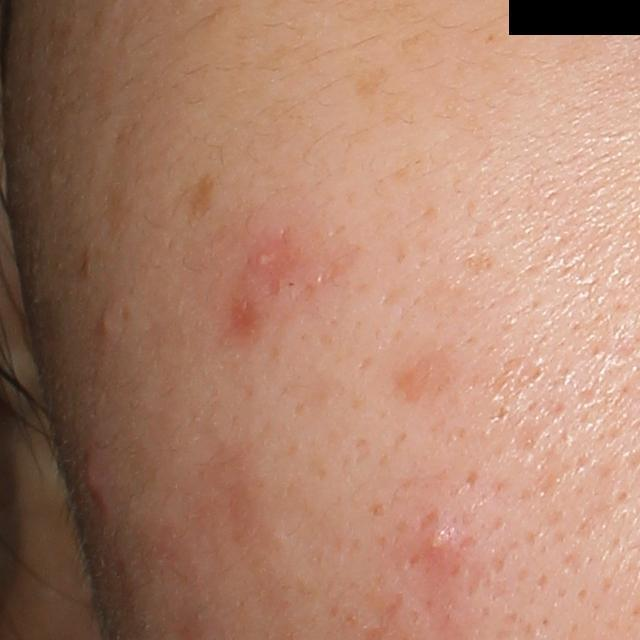papule: (76, 450, 109, 505)
pustule: (254, 246, 283, 271)
